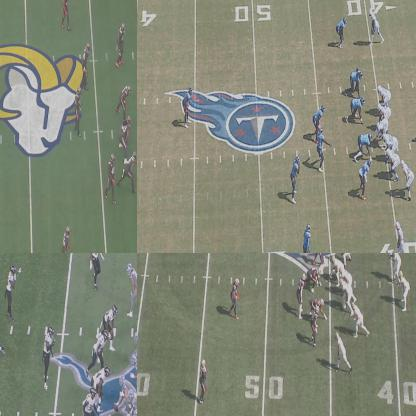CENTER: (113, 371, 130, 411), (328, 254, 341, 284), (375, 121, 386, 140)
DB: (6, 264, 16, 326), (88, 253, 102, 289), (361, 156, 370, 197), (182, 90, 192, 126), (201, 356, 209, 400), (292, 157, 300, 200), (84, 387, 96, 415), (232, 277, 240, 318), (310, 306, 318, 346), (0, 307, 5, 370), (61, 225, 72, 252), (303, 219, 311, 252), (62, 0, 70, 27), (340, 19, 348, 46)
LB: (92, 366, 110, 410), (43, 323, 55, 387), (92, 332, 108, 368), (106, 152, 116, 198), (82, 43, 90, 92), (75, 86, 82, 140), (298, 279, 306, 322), (317, 128, 324, 169), (315, 105, 324, 129)
QB: (391, 253, 404, 283)
SKILL: (127, 259, 136, 318), (398, 272, 410, 313), (352, 303, 366, 338), (393, 220, 408, 252), (335, 333, 347, 370), (370, 7, 382, 40), (404, 161, 412, 196)
